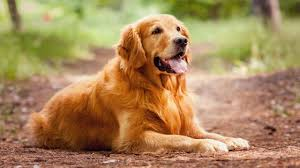Golden Retriever: (21, 10, 265, 165)
